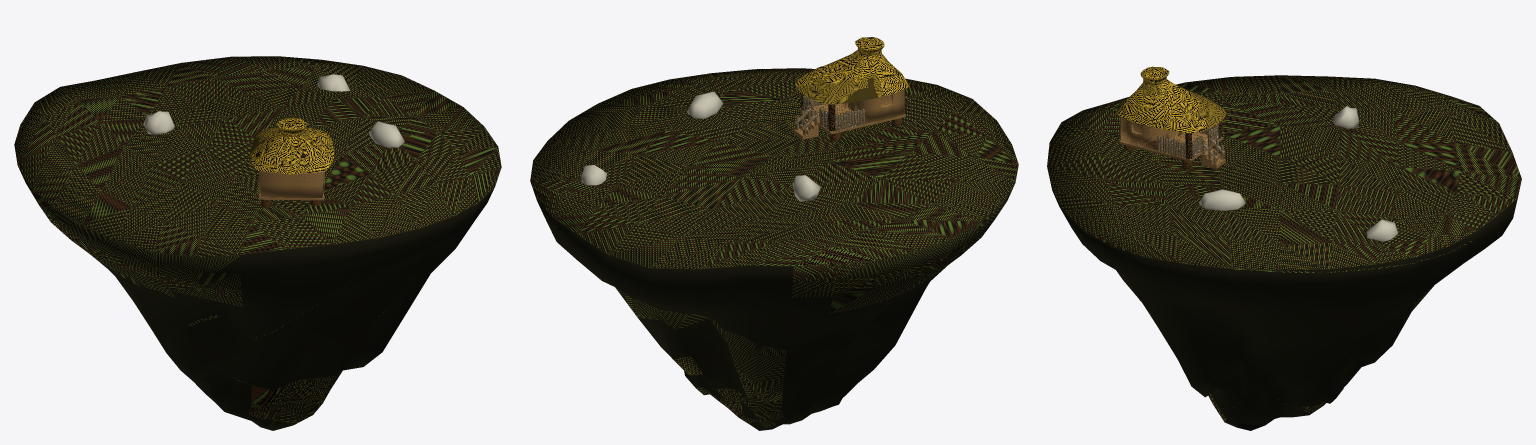
Rendered from Island.glb.
The picture shows the model from 3 angles, left to right: view 1: azimuth 30°, elevation 25°; view 2: azimuth 150°, elevation 25°; view 3: azimuth 270°, elevation 25°; orthographic projection. The views are drawn at different scales.
Parts seen in each view (by area): view 1: island_body1_island1_lambert_0, roof_roof_lambert_0, house_body_House_lambert_0, stone1_stone_lambert_0, stone3_stone_lambert_0, stone2_stone_lambert_0; view 2: island_body1_island1_lambert_0, roof_roof_lambert_0, house_body_House_lambert_0, stone1_stone_lambert_0, stone3_stone_lambert_0, house_base_House_lambert_0; view 3: island_body1_island1_lambert_0, roof_roof_lambert_0, house_body_House_lambert_0, stone1_stone_lambert_0, stone2_stone_lambert_0, house_base_House_lambert_0, stone3_stone_lambert_0.
Boxes of the visible parts, x1,y1,x2,y2 form: island_body1_island1_lambert_0: (14,56,501,430); roof_roof_lambert_0: (249,118,334,174); house_body_House_lambert_0: (259,164,323,197); stone1_stone_lambert_0: (369,121,404,147); stone3_stone_lambert_0: (143,111,174,134); stone2_stone_lambert_0: (317,74,350,91); island_body1_island1_lambert_0: (530,68,1018,430); roof_roof_lambert_0: (795,37,909,104); house_body_House_lambert_0: (840,89,904,123); stone1_stone_lambert_0: (687,91,723,118); stone3_stone_lambert_0: (792,175,820,201); house_base_House_lambert_0: (799,104,905,134); island_body1_island1_lambert_0: (1047,75,1521,430); roof_roof_lambert_0: (1115,66,1226,133); house_body_House_lambert_0: (1120,117,1183,150); stone1_stone_lambert_0: (1199,189,1245,210); stone2_stone_lambert_0: (1367,219,1397,241); house_base_House_lambert_0: (1119,132,1222,161); stone3_stone_lambert_0: (1333,106,1358,128).
Bounding box in the file's own units: 85.27 × 72.06 × 87.68.
9 materials, 8 textured.
